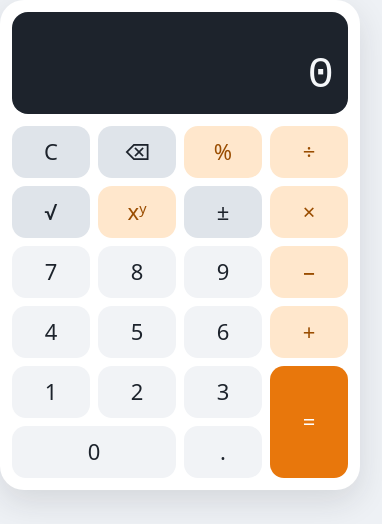
Calculator › evaluates a chained calculation left to right with clicks
Click the button "2" at (137,392), box [98, 366, 176, 418]
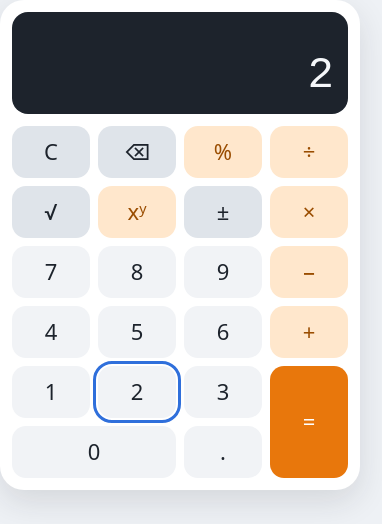
Click the button named "Add" at (309,332), box [270, 306, 348, 358]
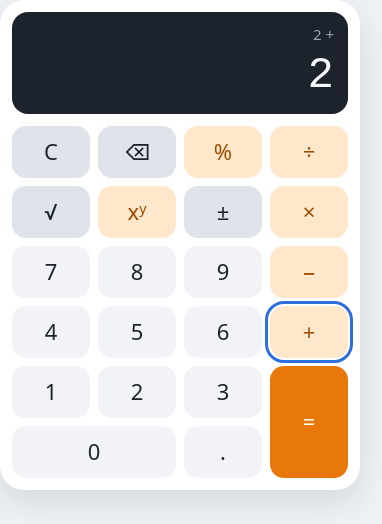
Click the button "3" at (223,392), box [184, 366, 262, 418]
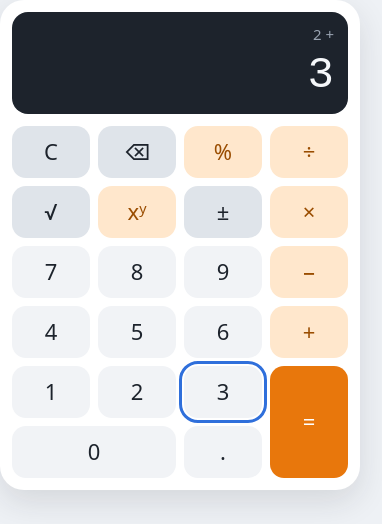
Click the button named "Multiply" at (309,212), box [270, 186, 348, 238]
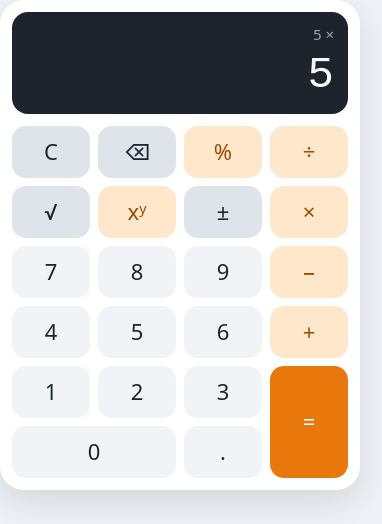
Now the text "5 ×" is shown, box [313, 24, 334, 44]
Now the text "5" is shown, box [308, 50, 334, 100]
Click the button "4" at (51,332), box [12, 306, 90, 358]
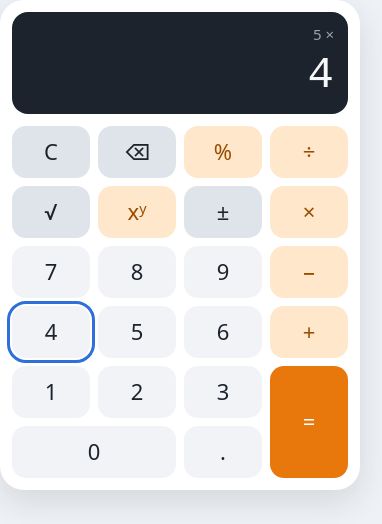
Click the button named "Equals" at (309,422), box [270, 366, 348, 478]
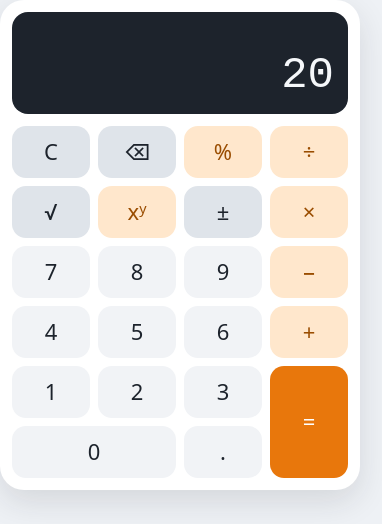
Now the text "20" is shown, box [281, 50, 334, 100]
